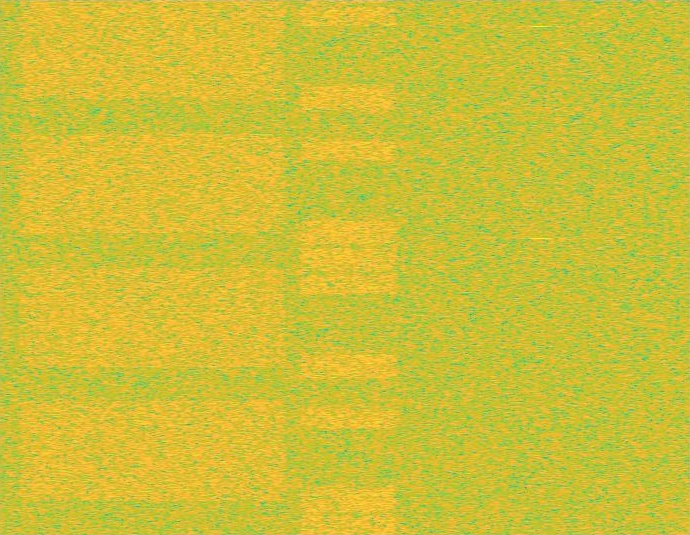5G: (15, 0, 291, 534)
LTE: (297, 0, 400, 534)
Radar: (533, 0, 547, 534)
